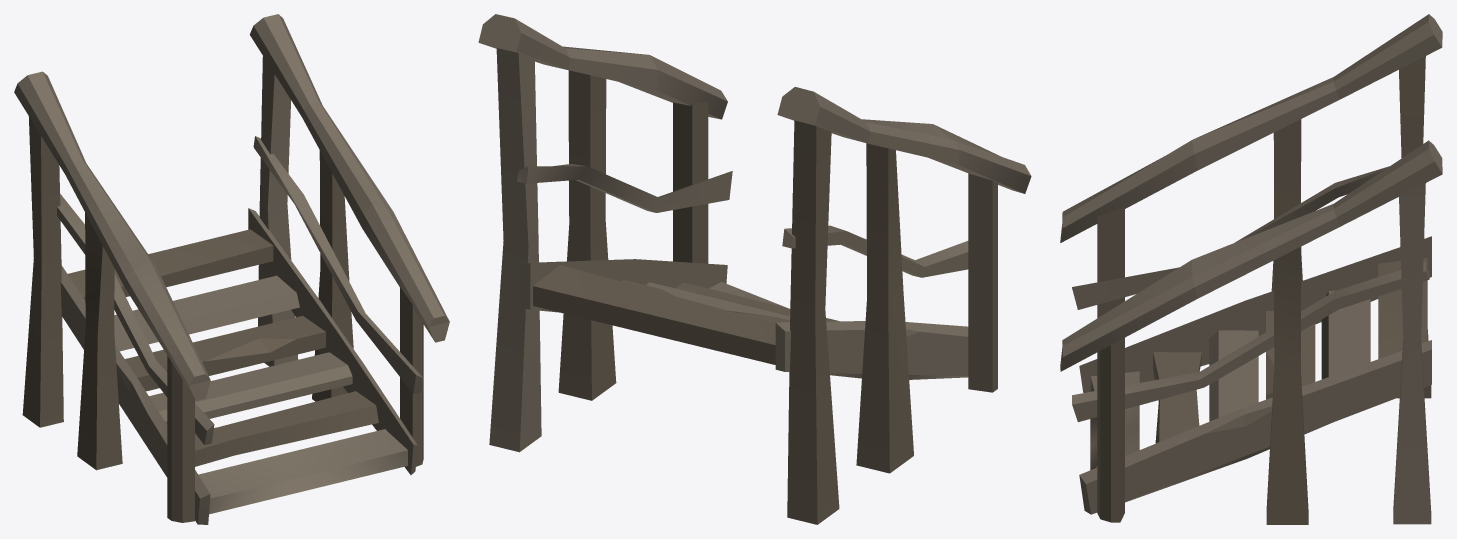
The model's file is _STAIRS_02_1.fbx.
3 views of the same model, side by side, from view 1: azimuth 30°, elevation 25°; view 2: azimuth 150°, elevation 25°; view 3: azimuth 270°, elevation 25° (orthographic). The views are drawn at different scales.
Visible parts, largest first — view 1: STAIRS_02_1; view 2: STAIRS_02_1; view 3: STAIRS_02_1.
Boxes of the visible parts, x1,y1,x2,y2 form: STAIRS_02_1: [14, 14, 449, 524]; STAIRS_02_1: [478, 14, 1031, 524]; STAIRS_02_1: [1060, 14, 1442, 524].
Size of the model in its own units: 106 by 128 by 119.
